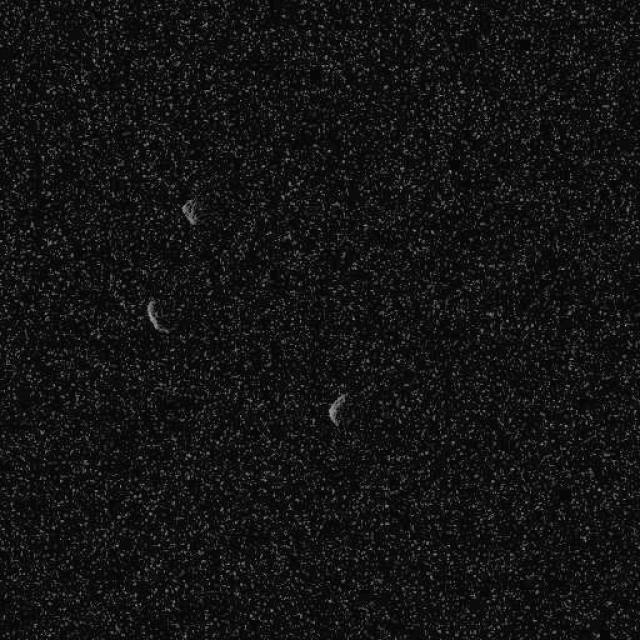D2: (145, 298, 170, 334), (326, 392, 346, 426), (180, 196, 200, 225)
